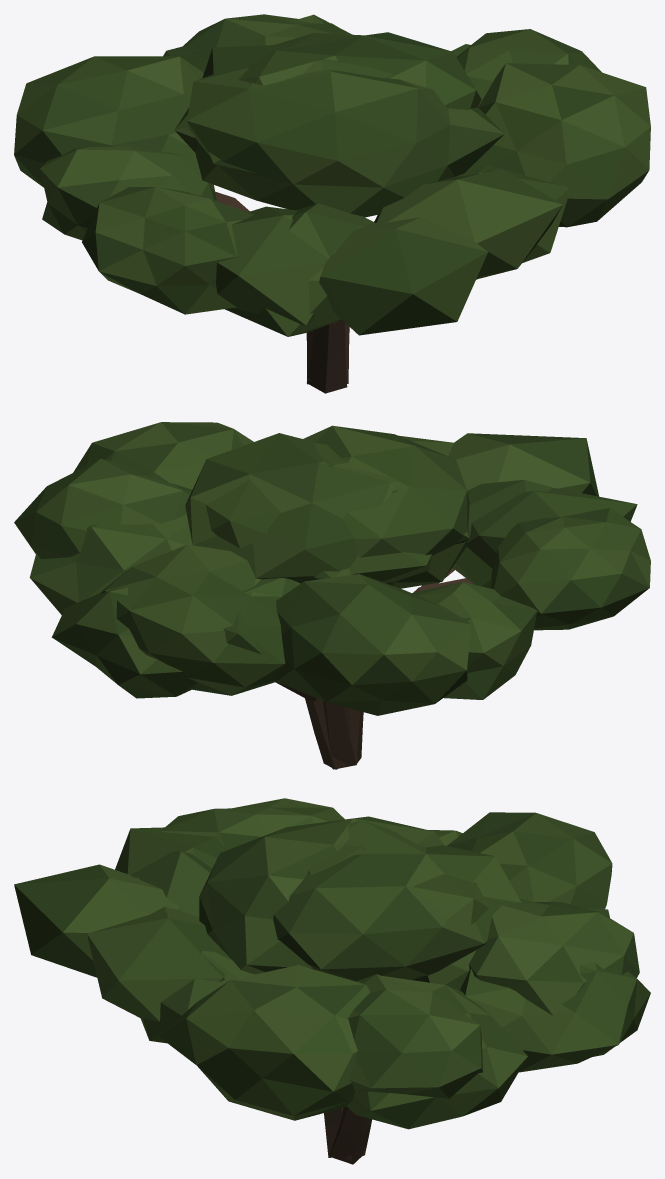
File: mesquite.glb
3 views of the same model, one above another, from view 1: azimuth 30°, elevation 25°; view 2: azimuth 150°, elevation 25°; view 3: azimuth 270°, elevation 25° (orthographic). The views are drawn at different scales.
Visible parts, largest first — view 1: mesquite_v2, mesquite_v0, mesquite_v1; view 2: mesquite_v0, mesquite_v1, mesquite_v2; view 3: mesquite_v0, mesquite_v2, mesquite_v1.
Part boxes in pixels (bbox=[...]): mesquite_v2: bbox=[82, 44, 504, 393]; mesquite_v0: bbox=[14, 14, 650, 383]; mesquite_v1: bbox=[40, 14, 601, 384]; mesquite_v0: bbox=[51, 422, 552, 769]; mesquite_v1: bbox=[14, 443, 637, 769]; mesquite_v2: bbox=[29, 425, 650, 763]; mesquite_v0: bbox=[87, 812, 650, 1164]; mesquite_v2: bbox=[14, 798, 609, 1157]; mesquite_v1: bbox=[115, 827, 639, 1160].
Bounding box in the file's own units: 8.45 × 4.49 × 8.34.
